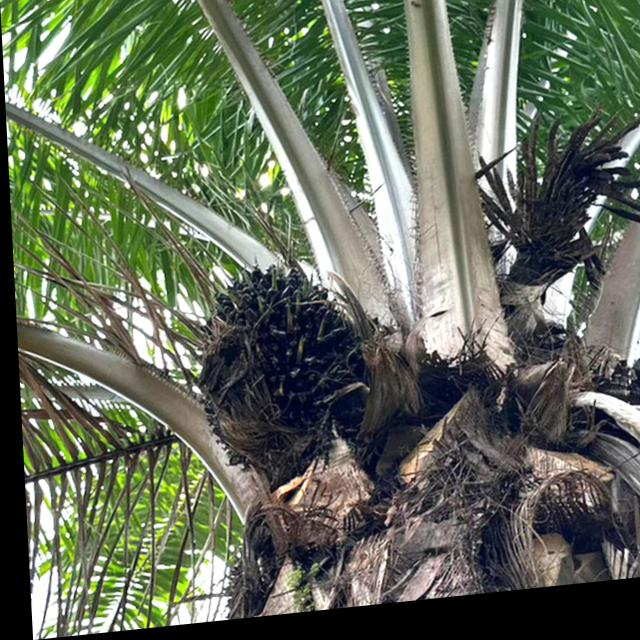unripe: (172, 244, 395, 499)
